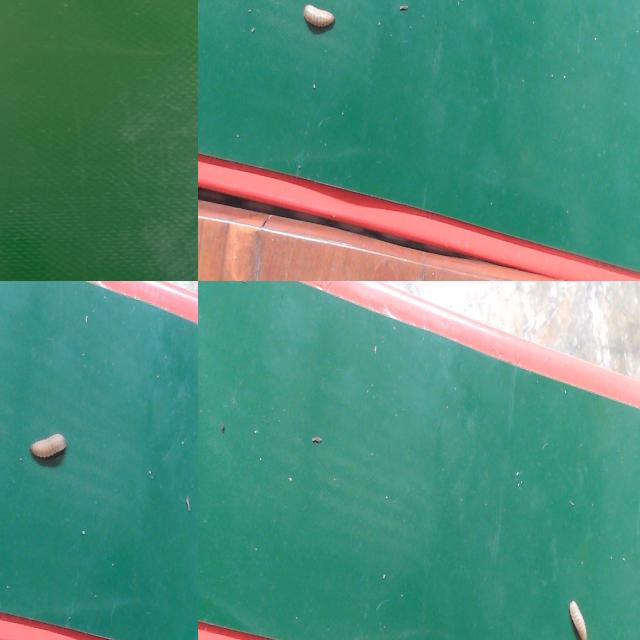Maggot: (29, 433, 67, 468), (301, 4, 337, 36), (569, 603, 590, 640)
